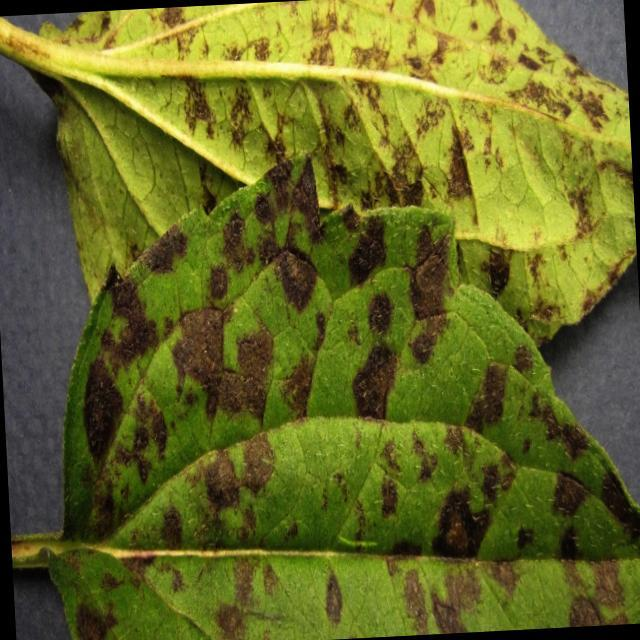Tomato Septoria spot leaf: (29, 130, 640, 640), (30, 0, 640, 380)
